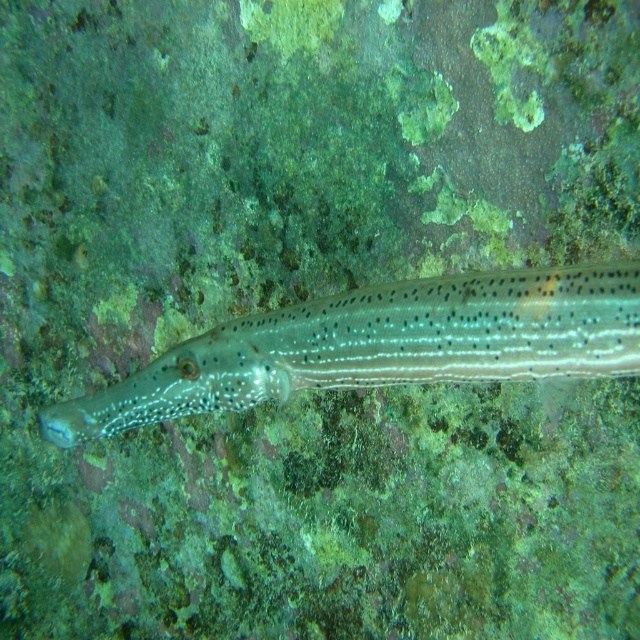Fish: (178, 239, 638, 464)
